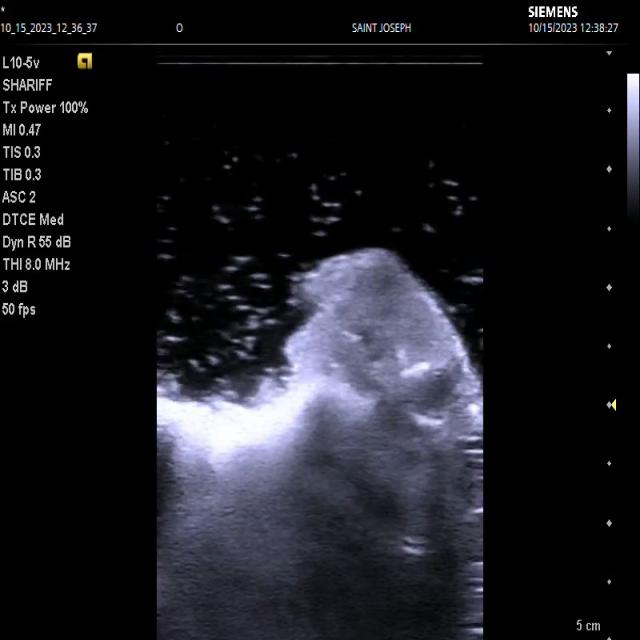tissue: (157, 250, 482, 640)
